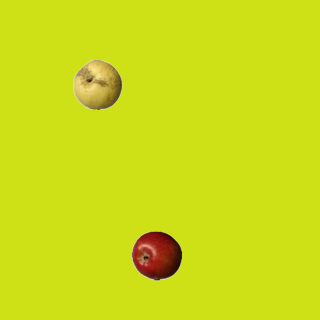Apple Braeburn: (131, 230, 181, 280)
Apple Golden 1: (72, 59, 122, 109)
